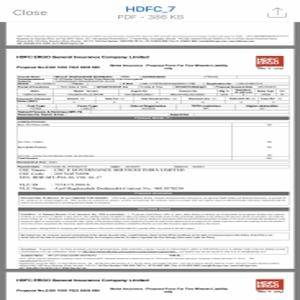image: (253, 52, 287, 71), (254, 279, 286, 292)
table: (16, 116, 292, 171), (16, 74, 290, 116)
text: (15, 51, 151, 62)
